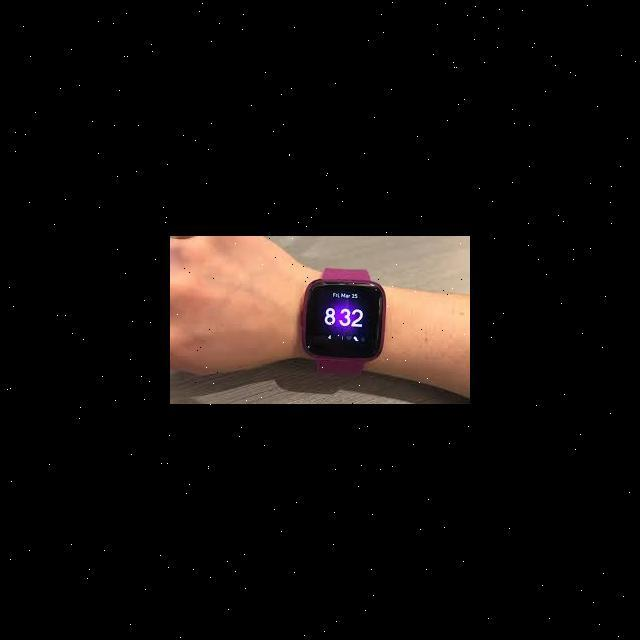watch: (296, 248, 406, 367)
